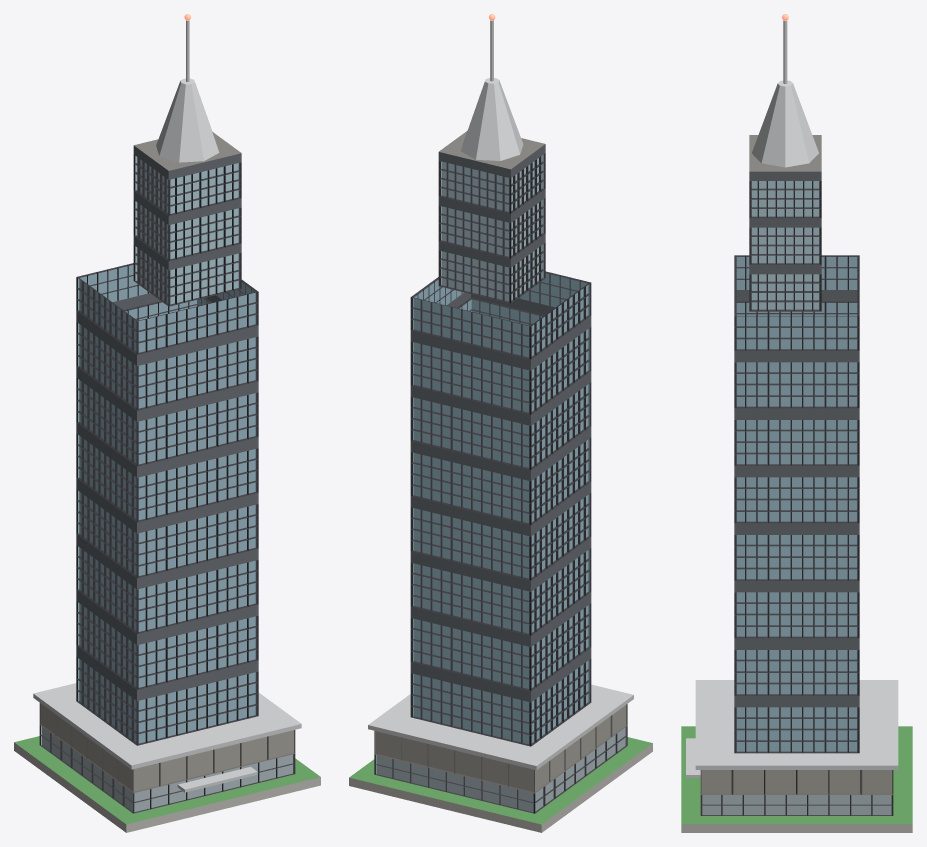
File: Modern_HighRise_4Level_Demo.glb
3 views of the same model, side by side, from view 1: azimuth 30°, elevation 25°; view 2: azimuth 150°, elevation 25°; view 3: azimuth 270°, elevation 25° (orthographic). The views are drawn at different scales.
Visible parts, largest first — view 1: Building_Tower, Building_Setback, Building_Coping, Floor_Grass, Building_StoneBand, Building_Lobby, Building_Crown, Building_SetbackRoof, Building_Canopy; view 2: Building_Tower, Building_Setback, Building_Coping, Floor_Grass, Building_StoneBand, Building_Lobby, Building_Crown, Building_SetbackRoof; view 3: Building_Tower, Building_Setback, Building_Coping, Floor_Grass, Building_StoneBand, Building_Lobby, Building_Crown, Building_SetbackRoof.
Boxes of the visible parts, <box> form: Building_Tower: <box>76,263,258,745</box>; Building_Setback: <box>133,145,241,306</box>; Building_Coping: <box>33,683,301,769</box>; Floor_Grass: <box>14,736,320,832</box>; Building_StoneBand: <box>39,703,295,793</box>; Building_Lobby: <box>39,725,295,813</box>; Building_Crown: <box>156,78,219,162</box>; Building_SetbackRoof: <box>134,132,241,170</box>; Building_Canopy: <box>177,767,257,792</box>; Building_Tower: <box>410,271,591,746</box>; Building_Setback: <box>438,144,545,303</box>; Building_Coping: <box>368,684,633,770</box>; Floor_Grass: <box>349,737,652,832</box>; Building_StoneBand: <box>374,704,627,793</box>; Building_Lobby: <box>374,726,627,813</box>; Building_Crown: <box>461,78,523,160</box>; Building_SetbackRoof: <box>439,131,544,169</box>; Building_Tower: <box>734,255,859,753</box>; Building_Setback: <box>749,171,821,311</box>; Building_Coping: <box>695,680,898,769</box>; Floor_Grass: <box>681,726,912,832</box>; Building_StoneBand: <box>700,770,893,794</box>; Building_Lobby: <box>700,795,893,815</box>; Building_Crown: <box>752,80,818,167</box>; Building_SetbackRoof: <box>749,135,821,171</box>.
Bounding box in the file's own units: 2.4 × 8.89 × 2.4.
